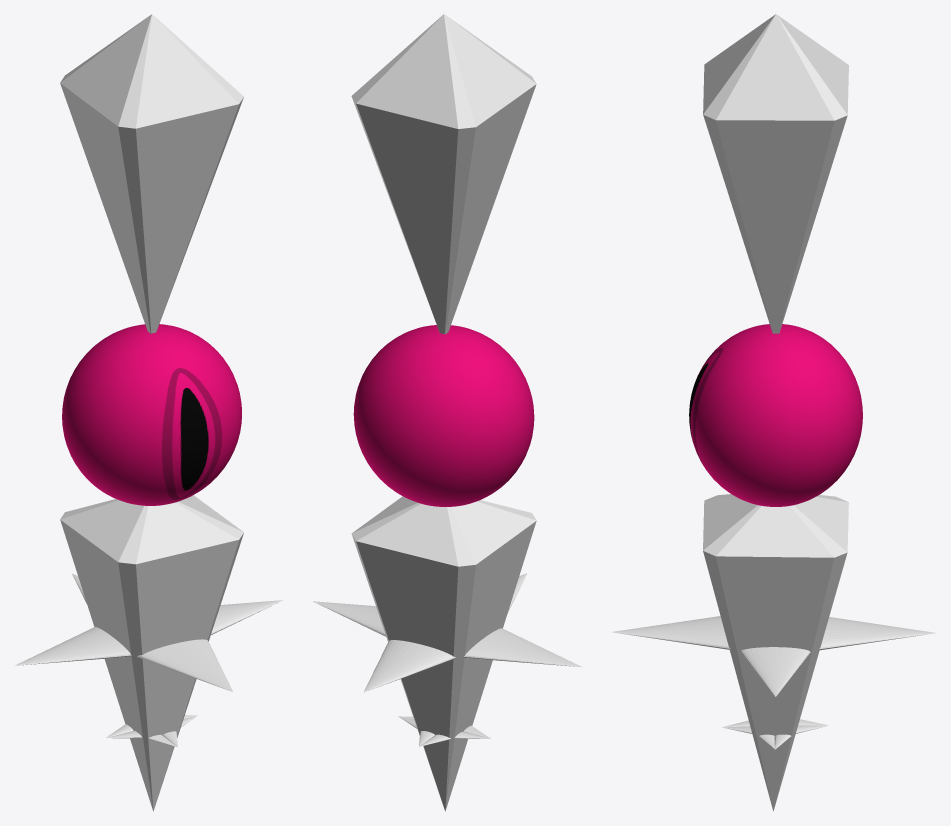
File: SnipperScout.fbx
3 renders of one model, left to right at view 1: azimuth 30°, elevation 25°; view 2: azimuth 150°, elevation 25°; view 3: azimuth 270°, elevation 25°, orthographic.
Visible parts, largest first — view 1: Cone.001, Cone.010, Sphere, Cone, Cone.012, Cone.013; view 2: Cone.001, Cone.010, Sphere, Cone.011, Cone.012, Cone.013; view 3: Cone.001, Sphere, Cone.010, Cone, Cone.011, Cone.013.
Boxes of the visible parts, bbox=[...] form: Cone.001: bbox=[60, 14, 243, 333]; Cone.010: bbox=[60, 495, 243, 811]; Sphere: bbox=[62, 324, 241, 505]; Cone: bbox=[137, 639, 232, 691]; Cone.012: bbox=[14, 627, 131, 665]; Cone.013: bbox=[211, 600, 283, 634]; Cone.001: bbox=[351, 14, 536, 334]; Cone.010: bbox=[351, 496, 536, 811]; Sphere: bbox=[353, 325, 534, 506]; Cone.011: bbox=[363, 640, 455, 692]; Cone.012: bbox=[463, 628, 582, 667]; Cone.013: bbox=[313, 601, 386, 636]; Cone.001: bbox=[703, 14, 848, 333]; Sphere: bbox=[689, 324, 862, 506]; Cone.010: bbox=[703, 494, 848, 811]; Cone: bbox=[611, 616, 730, 649]; Cone.011: bbox=[819, 617, 936, 650]; Cone.013: bbox=[740, 647, 810, 696].
Size of the model in its own units: 229 by 648 by 240.
